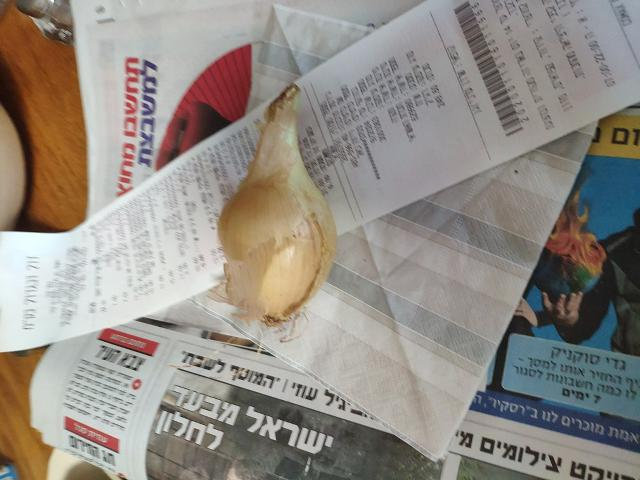onion: (228, 111, 331, 319)
